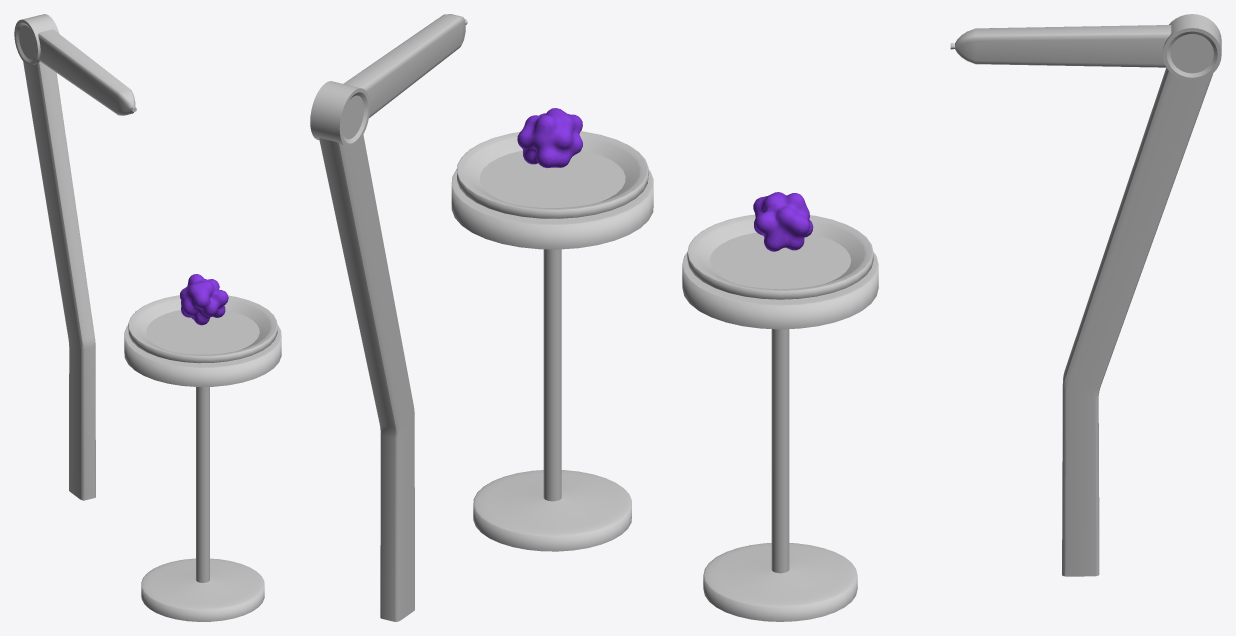
File: lazer.fbx
3 views of the same model, side by side, from view 1: azimuth 30°, elevation 25°; view 2: azimuth 150°, elevation 25°; view 3: azimuth 270°, elevation 25° (orthographic). The views are drawn at different scales.
Visible parts, largest first — view 1: Cylinder.001, Cube.001, Cube, Mball.019, Cylinder; view 2: Cylinder.001, Cube.001, Cube, Cylinder, Mball.019; view 3: Cylinder.001, Cube.001, Cube, Cylinder, Mball.019.
Part boxes in pixels (left/top/right/bottom): Cylinder.001: left=124, top=295, right=281, bottom=621; Cube.001: left=23, top=61, right=95, bottom=500; Cube: left=38, top=29, right=136, bottom=115; Mball.019: left=180, top=274, right=228, bottom=325; Cylinder: left=14, top=14, right=59, bottom=65; Cylinder.001: left=451, top=131, right=653, bottom=551; Cube.001: left=319, top=135, right=414, bottom=621; Cube: left=343, top=14, right=467, bottom=117; Cylinder: left=310, top=81, right=369, bottom=147; Mball.019: left=517, top=108, right=582, bottom=167; Cylinder.001: left=682, top=214, right=878, bottom=621; Cube.001: left=1062, top=68, right=1212, bottom=576; Cube: left=950, top=25, right=1171, bottom=67; Cylinder: left=1162, top=14, right=1221, bottom=81; Mball.019: left=753, top=192, right=813, bottom=251.
Size of the model in its own units: 667 by 2131 by 1832.
